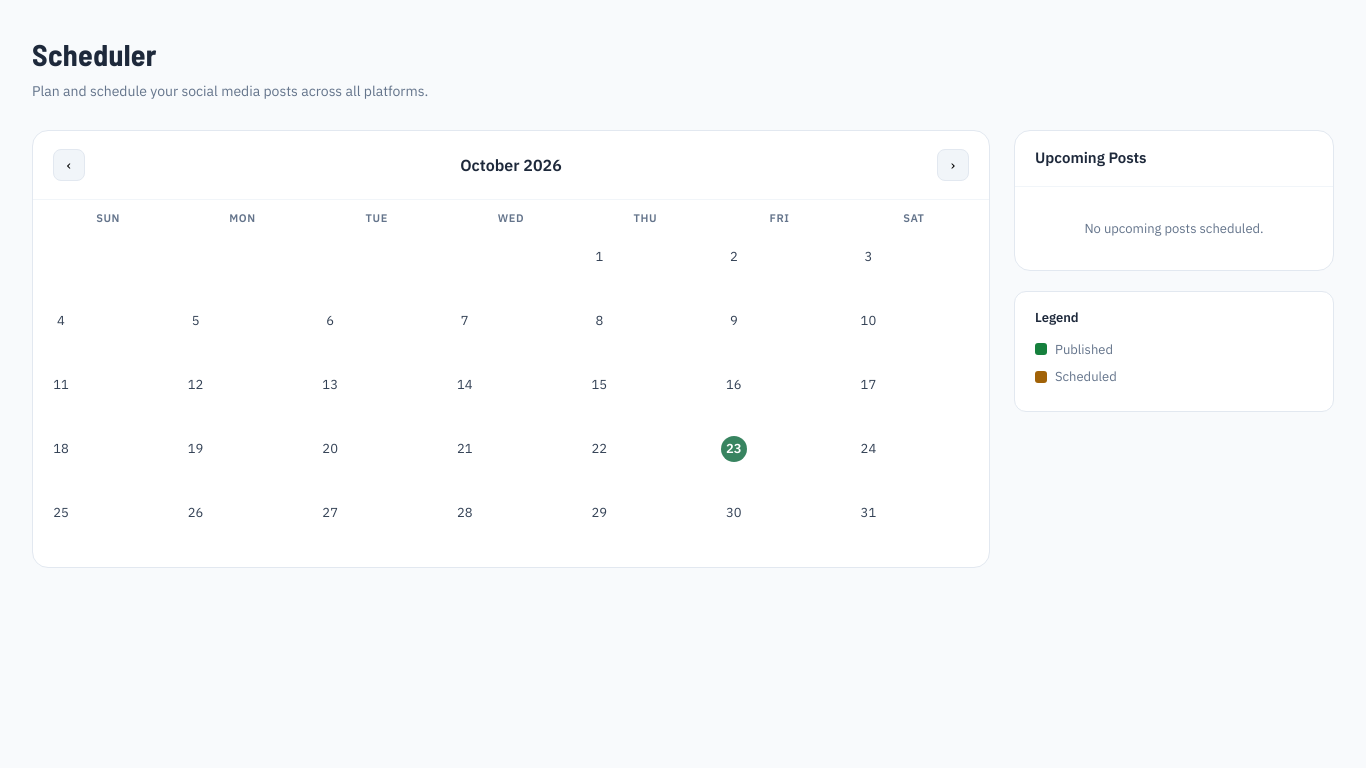
Test case: Scheduler — month navigation › clears selected day when navigating months
Expected: the heading "October 2026" is shown, [460,153,562,177]
// Click day 1 to select it
Click the text "1".
click(599, 256)  # box [595,248,603,265]
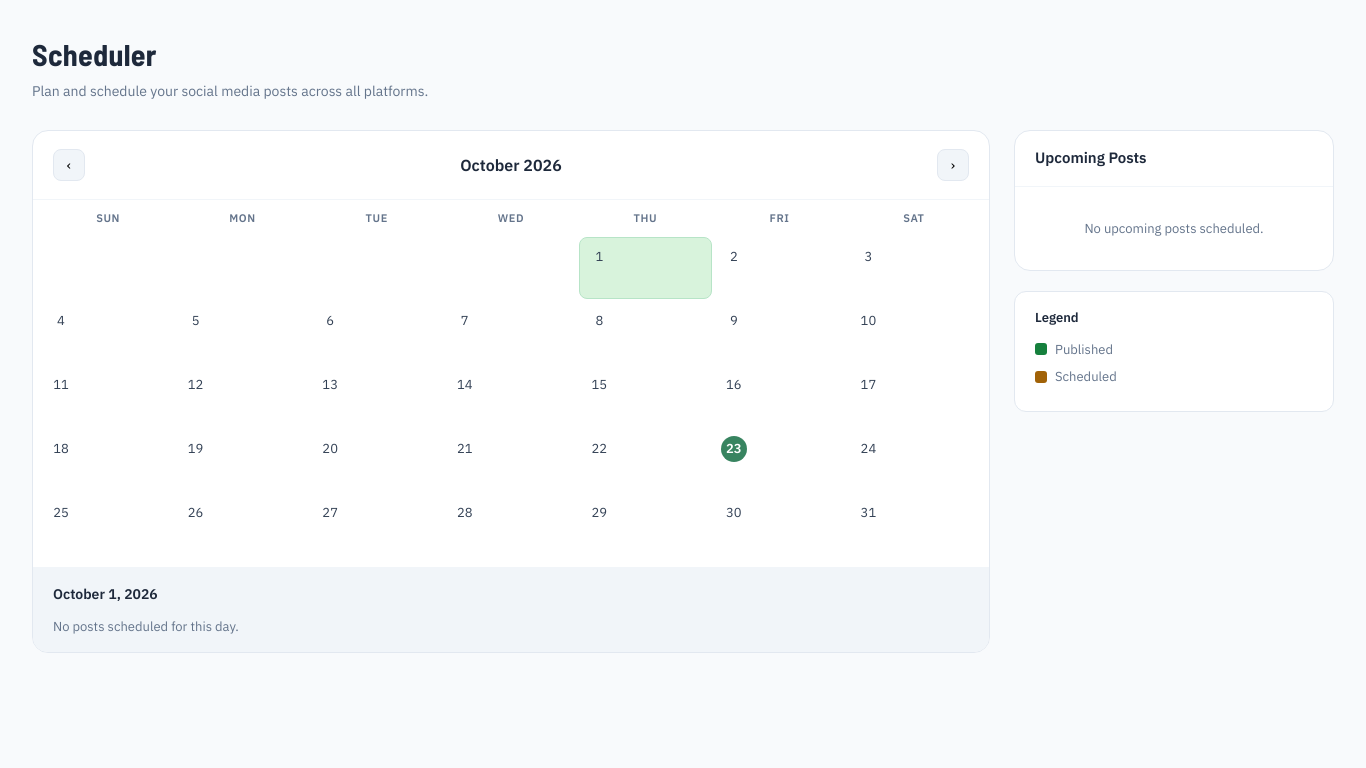
Now the text "No posts scheduled for this day." is shown, box [53,618,239,634]
// Navigate month — selection should clear
Click the button "›".
click(953, 165)  # box [937,149,969,181]
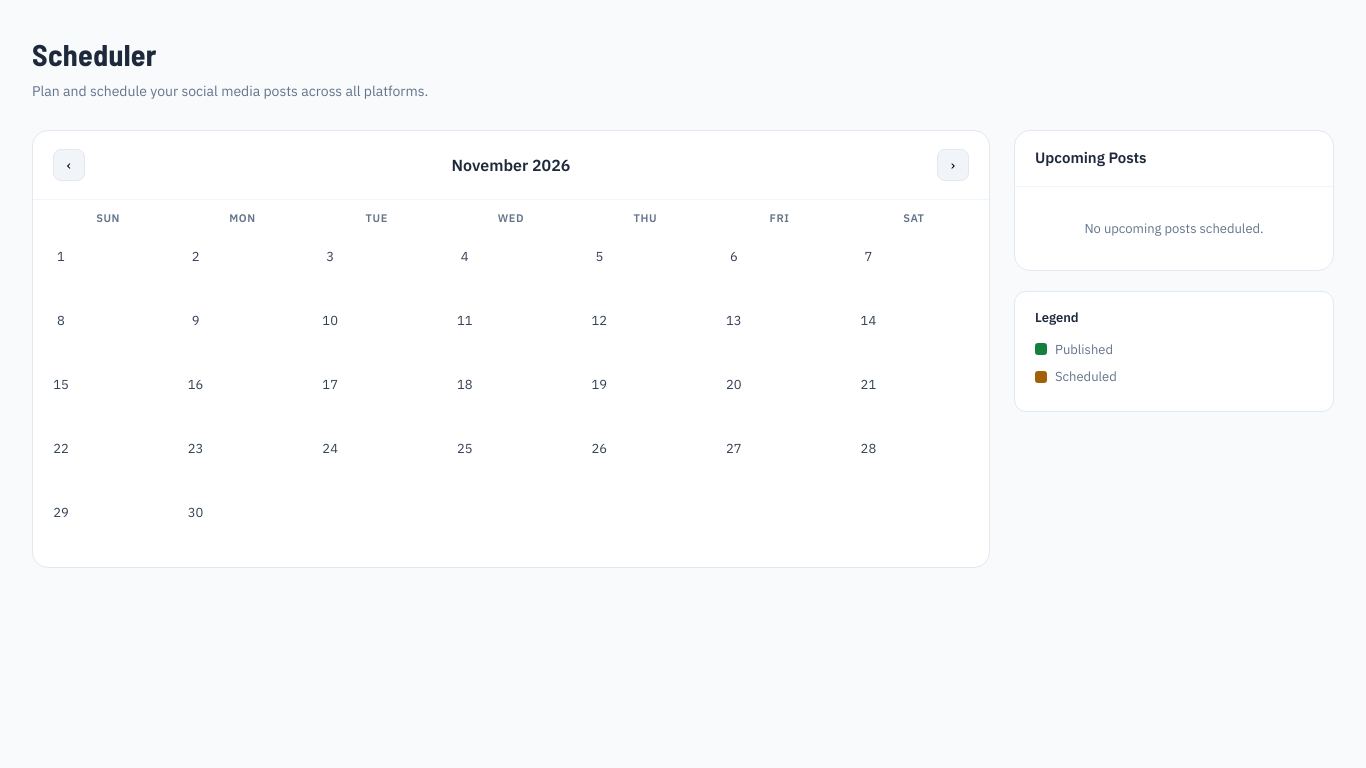
Now the text "No posts scheduled for this day." is gone
